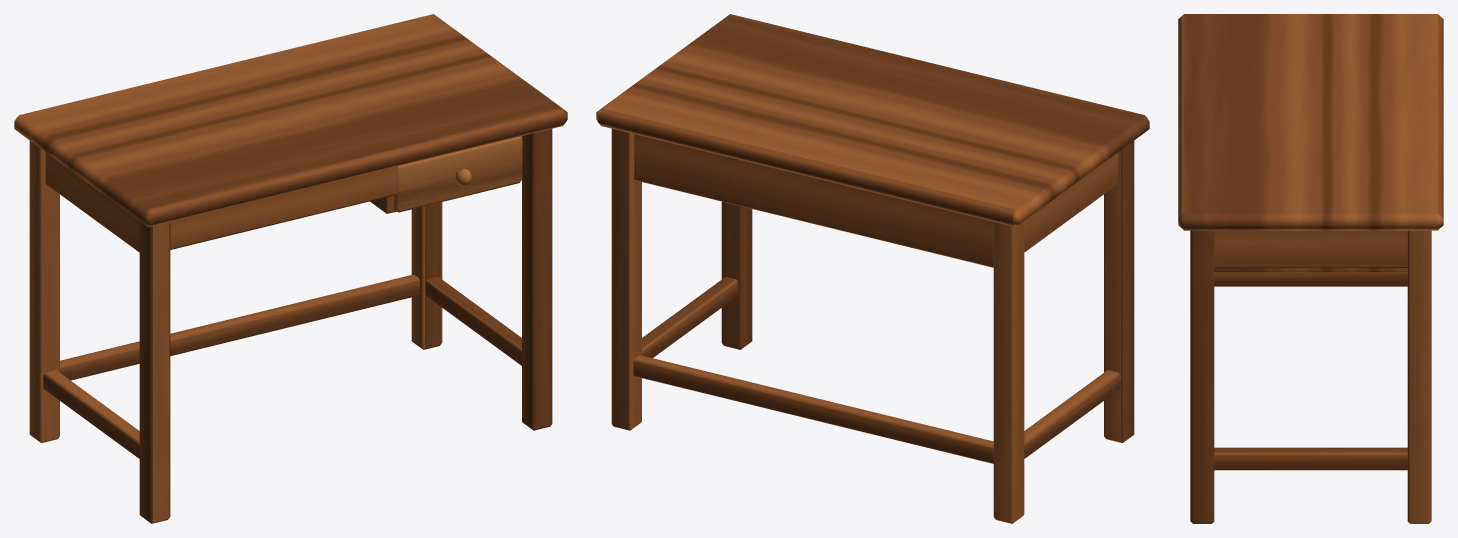
Rendered from kids_desk.glb.
The picture shows the model from 3 angles, left to right: view 1: azimuth 30°, elevation 25°; view 2: azimuth 150°, elevation 25°; view 3: azimuth 270°, elevation 25°; orthographic projection.
Parts seen in each view (by area): view 1: model; view 2: model; view 3: model.
Part boxes in pixels (bbox=[...]): model: bbox=[14, 14, 567, 523]; model: bbox=[596, 14, 1149, 523]; model: bbox=[1178, 14, 1443, 523].
Size of the model in its own units: 1 by 0.72 by 0.55.
Materials: 2 (2 with a texture image).
